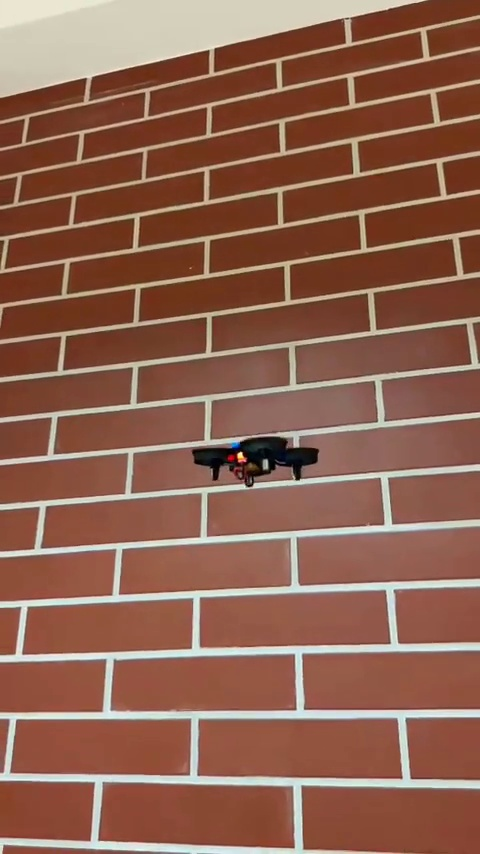drone: (191, 436, 325, 493)
